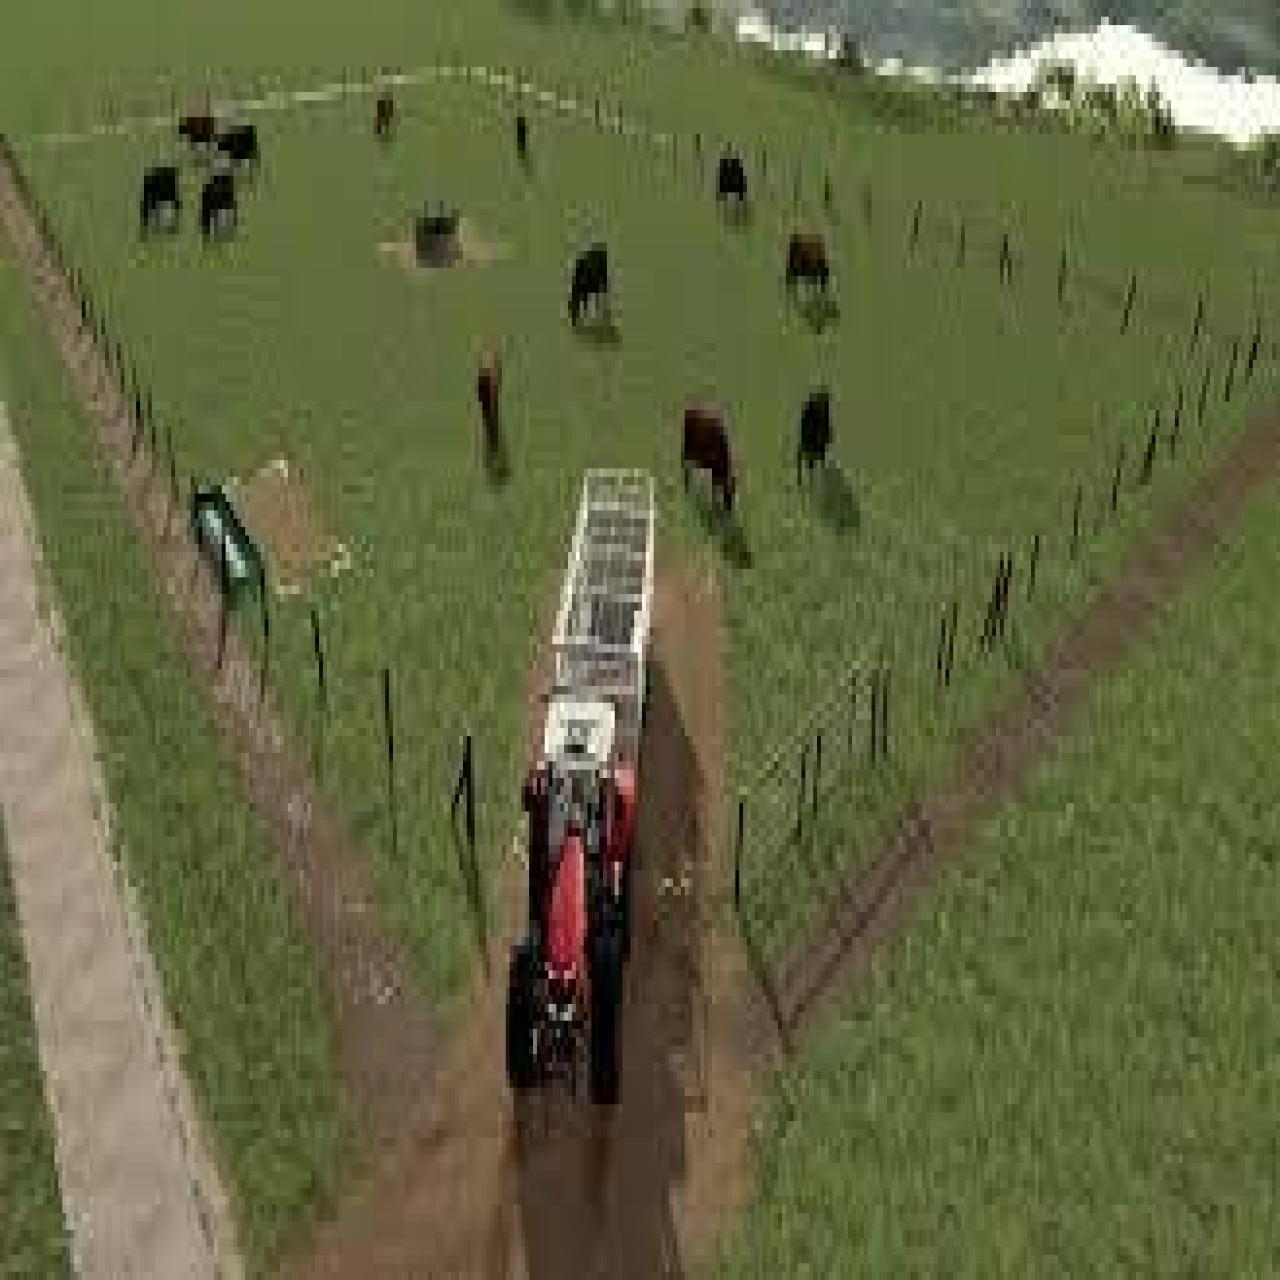cow: (681, 397, 740, 523), (778, 226, 840, 335), (566, 238, 613, 331), (796, 384, 835, 493), (197, 168, 244, 251), (138, 163, 181, 239), (477, 347, 504, 464), (714, 150, 749, 226), (210, 117, 260, 166), (175, 109, 218, 159), (372, 91, 395, 142), (513, 109, 530, 168)
